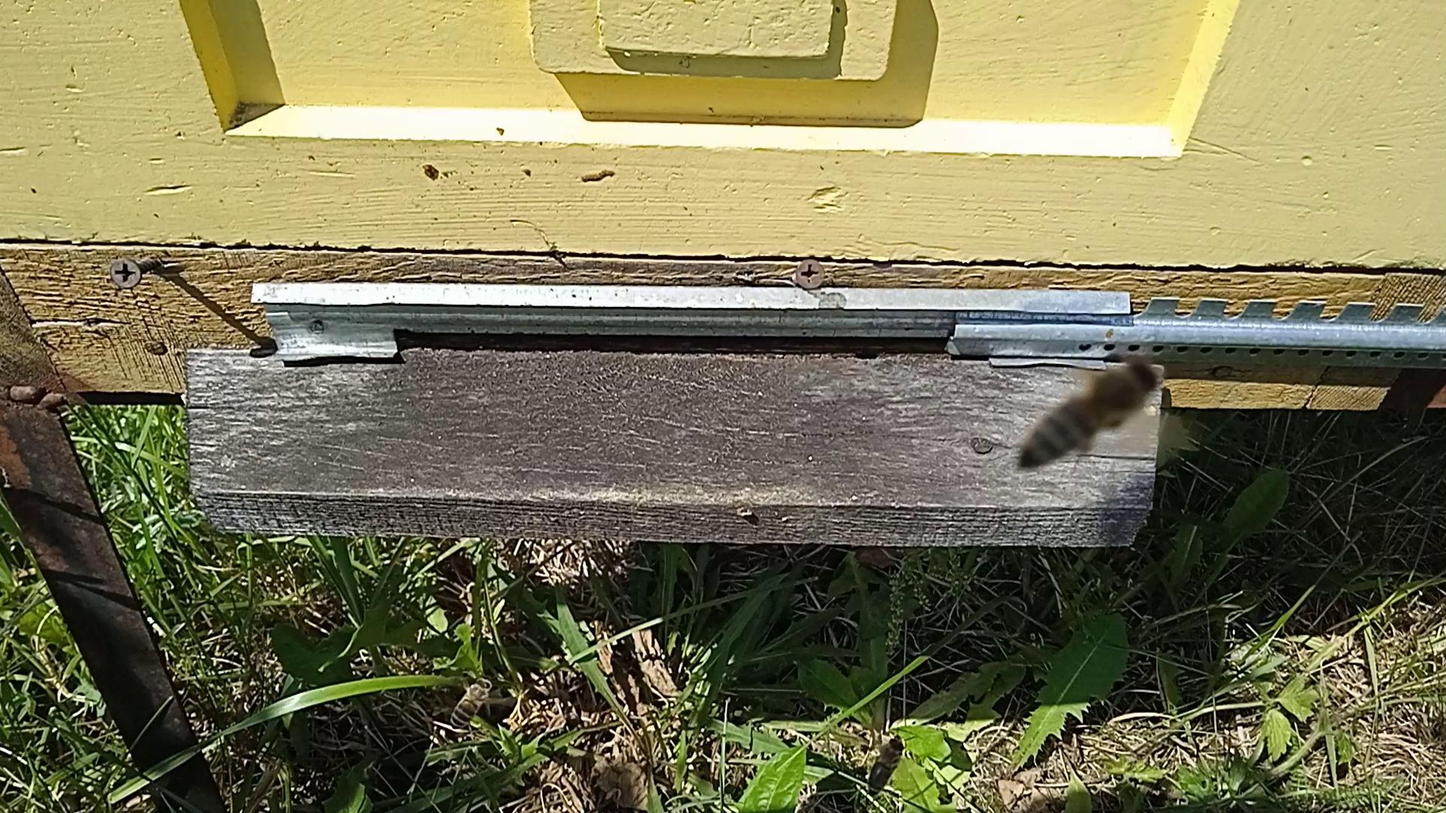worker-bee: (1012, 360, 1164, 473), (449, 675, 493, 729), (867, 735, 905, 797)
